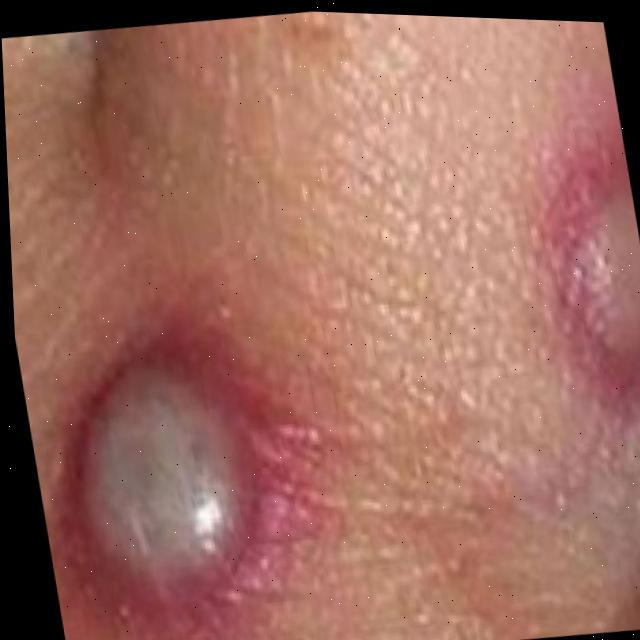Eczema: (93, 349, 270, 607), (552, 192, 640, 359)
